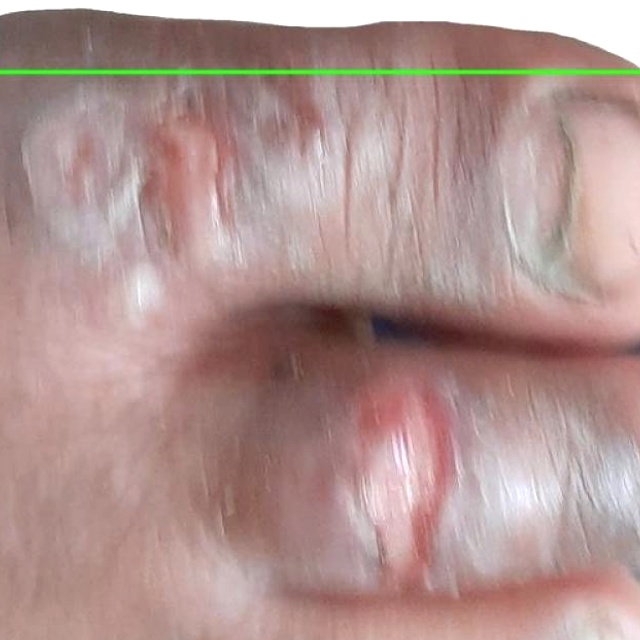Eczema: (0, 0, 639, 72)
